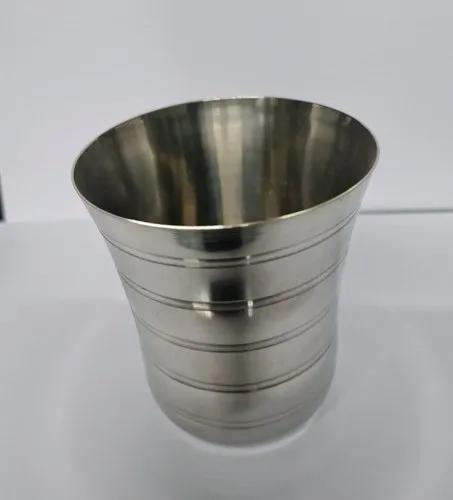glass-tumbler: (65, 92, 388, 444)
